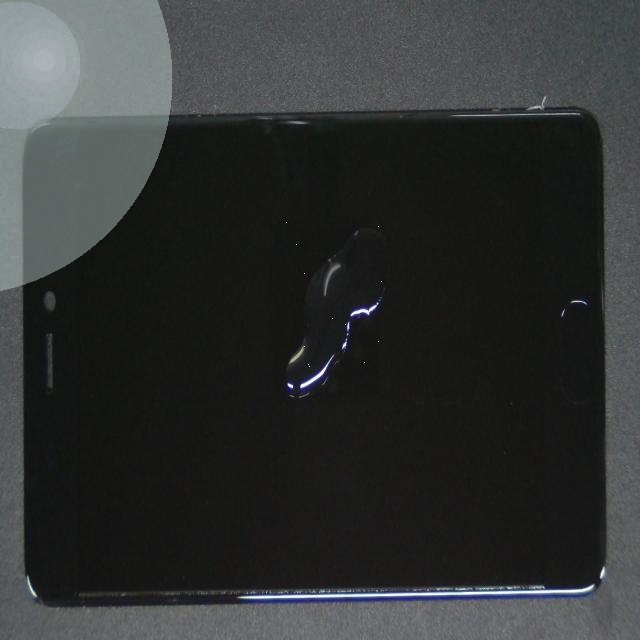oil: (168, 104, 451, 477)
